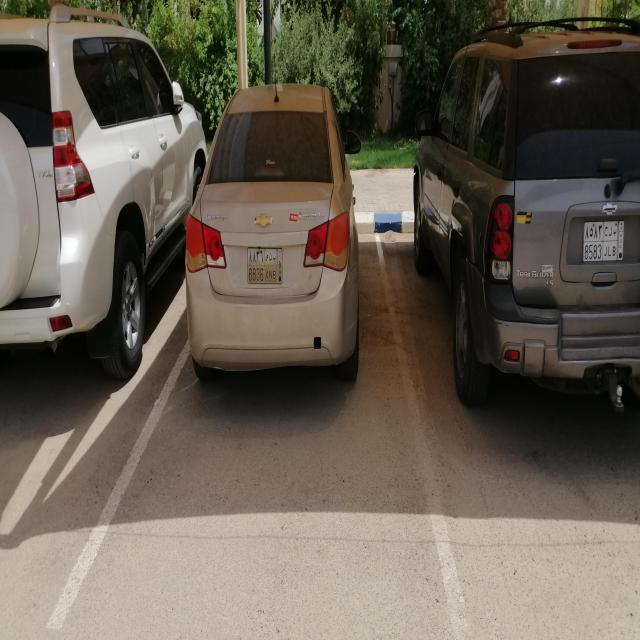license_plate: (582, 220, 624, 261), (247, 247, 282, 284)
